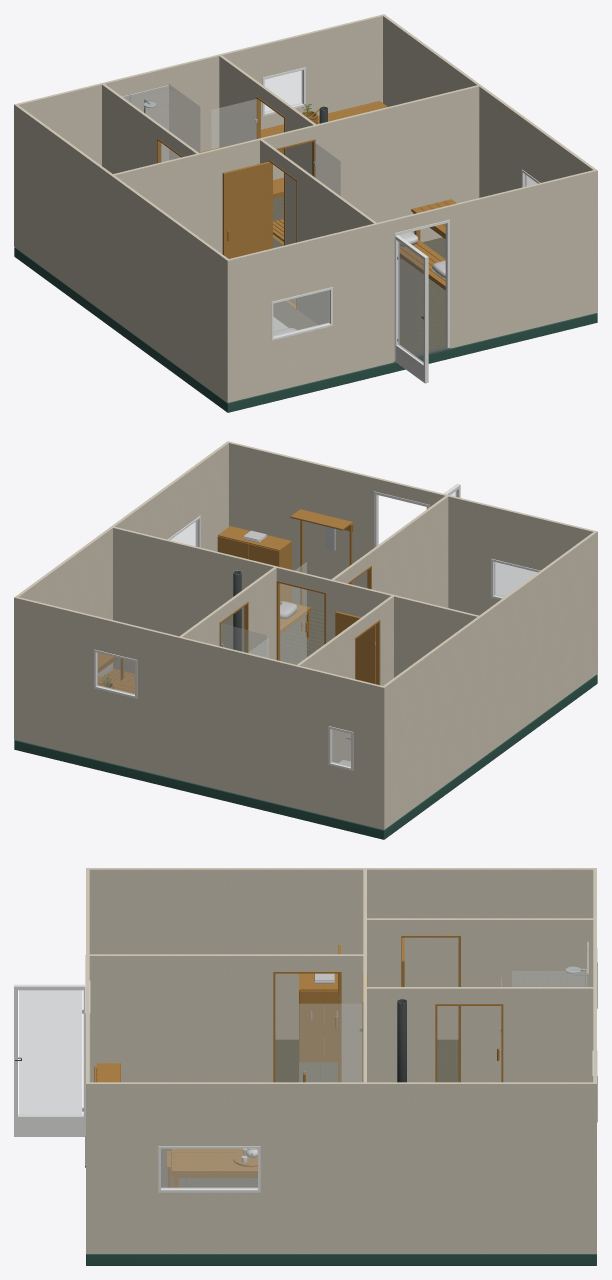
3 renders of one model, top to bottom at view 1: azimuth 30°, elevation 25°; view 2: azimuth 150°, elevation 25°; view 3: azimuth 270°, elevation 25°, orthographic. The views are drawn at different scales.
Visible parts, largest first — view 1: Wall front band 2, Wall front band 7, Wall front band 6, Wall front band 1, Foundation, Wall front band 8, Wall top_9_0005 band 7, Wall top_9_0005 band 8, Wall rear band 7, Wall rear band 8, Wall front band 5, Wall front band 4 (+46 smaller); view 2: Wall rear band 2, Wall rear band 7, Wall rear band 1, Wall rear band 4, Wall rear band 6, Foundation, Wall rear band 5, Wall rear band 8, Wall front band 7, Wall front band 8, Wall top_9_0005 band 8, Wall front band 6 (+47 smaller); view 3: Wall right band 2, Wall right band 6, Wall right band 7, Wall left band 7, Wall right band 1, Wall right band 4, Wall right band 5, Wall left band 6, Wall right band 8, Wall left band 8, Single PVC glass panel, Wall left band 5 (+39 smaller).
Boxes of the visible parts, box(x1,y1,x2,y2) form: Wall front band 2: box(226, 264, 597, 375); Wall front band 7: box(226, 183, 597, 292); Wall front band 6: box(226, 203, 597, 312); Wall front band 1: box(226, 285, 597, 393); Foundation: box(14, 247, 597, 412); Wall front band 8: box(226, 169, 597, 273); Wall top_9_0005 band 7: box(128, 99, 479, 199); Wall top_9_0005 band 8: box(113, 85, 479, 184); Wall rear band 7: box(14, 29, 382, 137); Wall rear band 8: box(14, 14, 385, 118); Wall front band 5: box(226, 222, 597, 331); Wall front band 4: box(226, 241, 597, 350); Wall rear band 2: box(14, 691, 385, 802); Wall rear band 7: box(14, 610, 385, 719); Wall rear band 1: box(14, 712, 385, 820); Wall rear band 4: box(14, 668, 385, 777); Wall rear band 6: box(14, 630, 385, 739); Foundation: box(14, 674, 597, 839); Wall rear band 5: box(14, 649, 385, 758); Wall rear band 8: box(14, 596, 385, 700); Wall front band 7: box(229, 456, 597, 564); Wall front band 8: box(226, 441, 597, 545); Wall top_9_0005 band 8: box(113, 526, 478, 626); Wall front band 6: box(229, 475, 597, 583); Wall right band 2: box(89, 1196, 593, 1221); Wall right band 6: box(89, 1122, 593, 1145); Wall right band 7: box(89, 1099, 593, 1122); Wall left band 7: box(89, 885, 593, 908); Wall right band 1: box(89, 1221, 593, 1243); Wall right band 4: box(89, 1169, 593, 1192); Wall right band 5: box(89, 1146, 593, 1168); Wall left band 6: box(89, 908, 593, 931); Wall right band 8: box(89, 1082, 593, 1099); Wall left band 8: box(89, 868, 593, 884); Single PVC glass panel: box(19, 990, 81, 1115); Wall left band 5: box(89, 931, 458, 954).
Bounding box in the file's own units: 6.01 × 2.36 × 6.85.
Materials: 35 (16 with a texture image).
